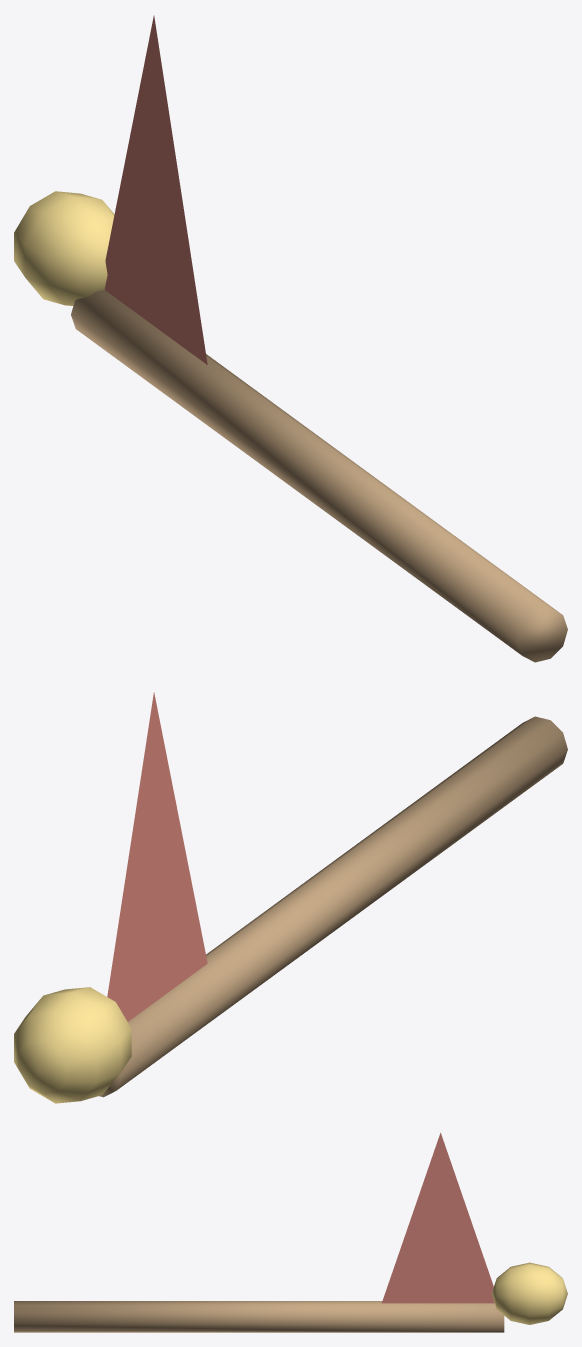
File: Equip_Signaller.fbx
3 views of the same model, one above another, from view 1: azimuth 30°, elevation 25°; view 2: azimuth 150°, elevation 25°; view 3: azimuth 270°, elevation 25° (orthographic). The views are drawn at different scales.
Visible parts, largest first — view 1: Equip_Signaller; view 2: Equip_Signaller; view 3: Equip_Signaller.
Boxes of the visible parts, x1,y1,x2,y2 form: Equip_Signaller: (14,15,567,662); Equip_Signaller: (14,692,567,1103); Equip_Signaller: (14,1132,567,1332).
Bounding box in the file's own units: 0.0951 × 0.3438 × 0.87.
